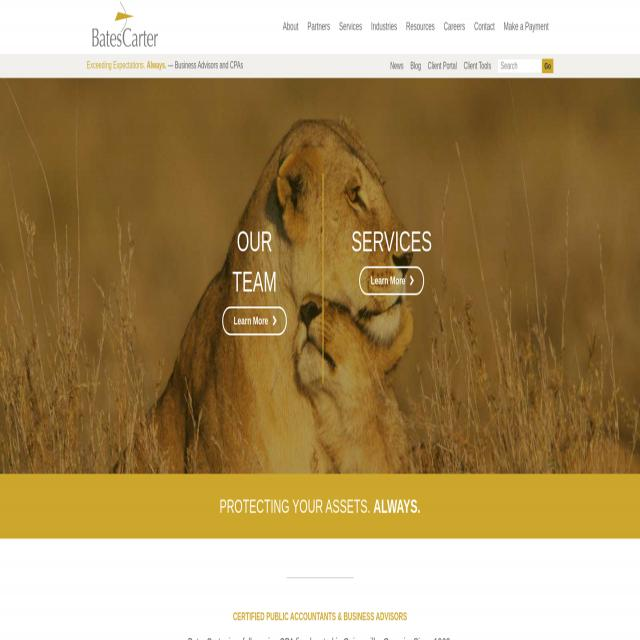button: (87, 0, 163, 49), (499, 0, 553, 54), (402, 0, 439, 54), (366, 0, 402, 54), (303, 0, 335, 54), (334, 0, 366, 54), (439, 0, 470, 54), (470, 0, 499, 54), (278, 0, 303, 54)
field: (498, 59, 540, 72)
